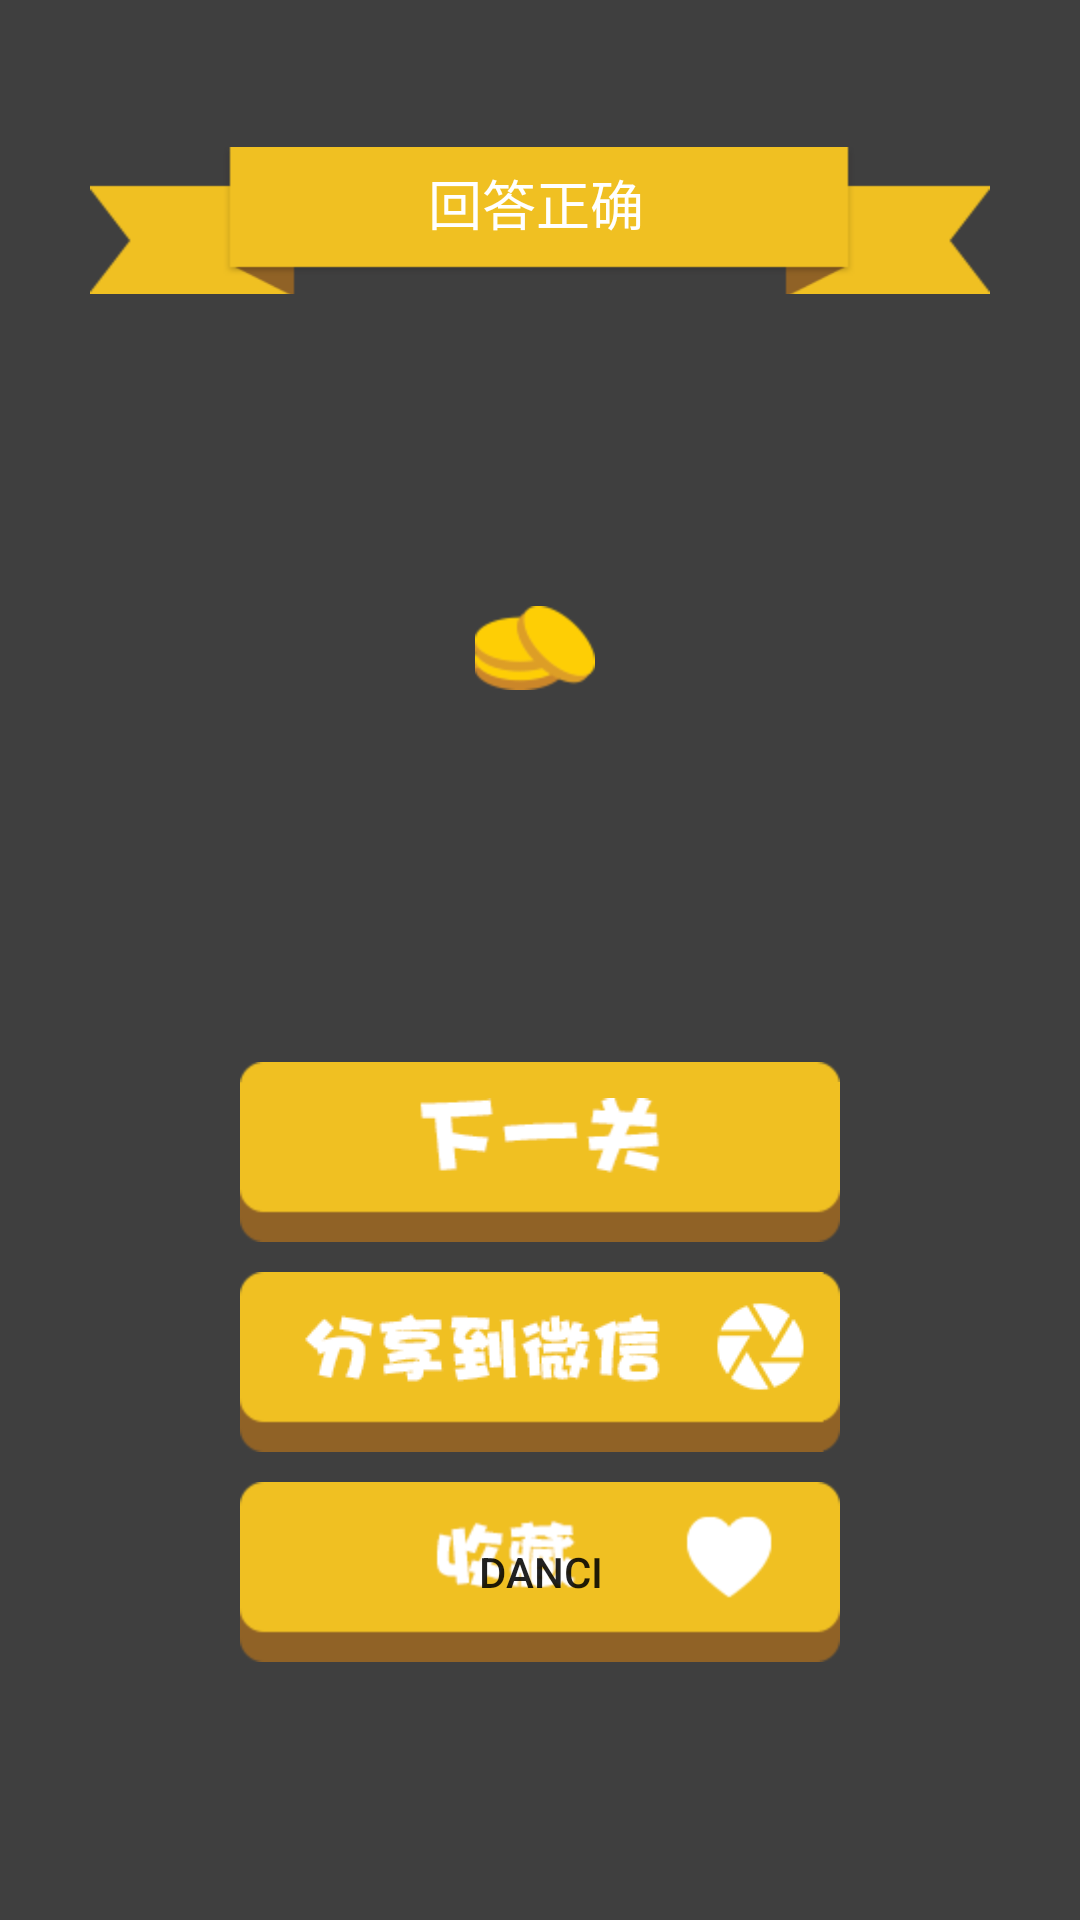

Where icons sit on this 1080 × 1920 app screen, as (x1, y1, x2, y2):
money: (475, 606, 595, 690)
